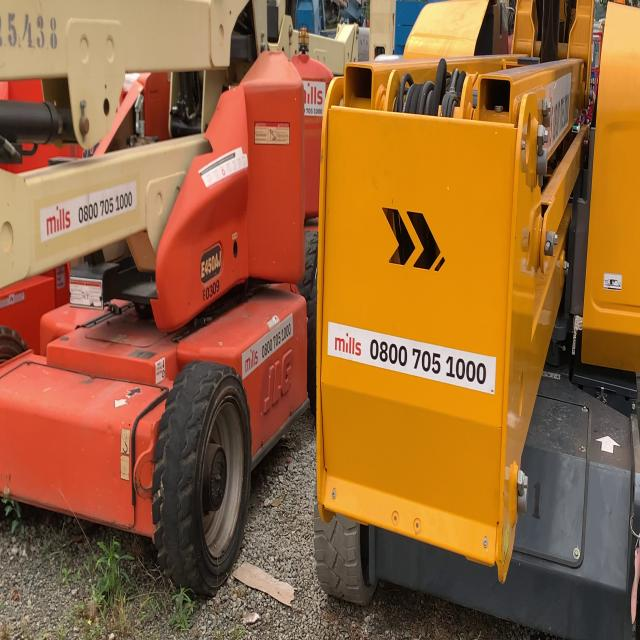Adesivo Longo: (326, 319, 497, 397), (39, 180, 137, 244), (241, 311, 295, 381)
